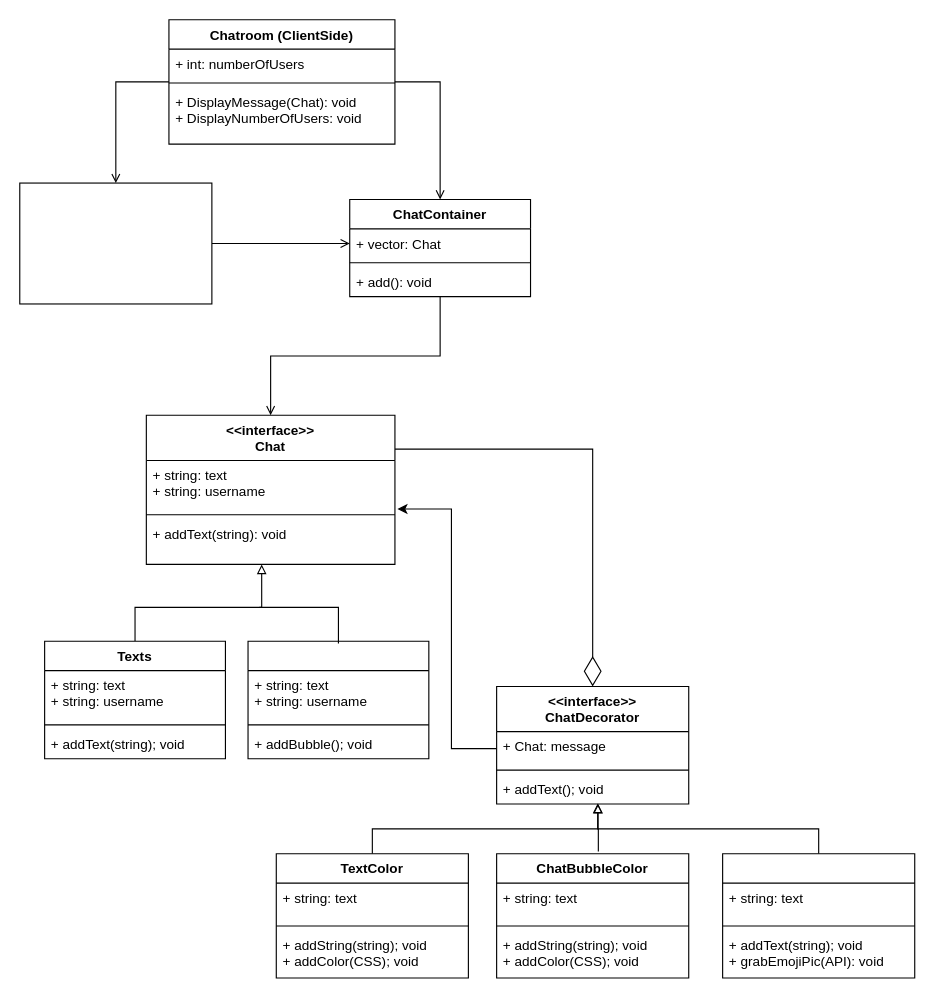
Some shapes in this 935 by 1001 pixel diagram are drawn without their labels. The box of each missing label's shape, as (x1, y1, x2, y2) in pixels:
ChatBubble: (247, 640, 429, 759)
GetEmoji: (722, 853, 915, 978)
Server_Side: (19, 182, 212, 304)
